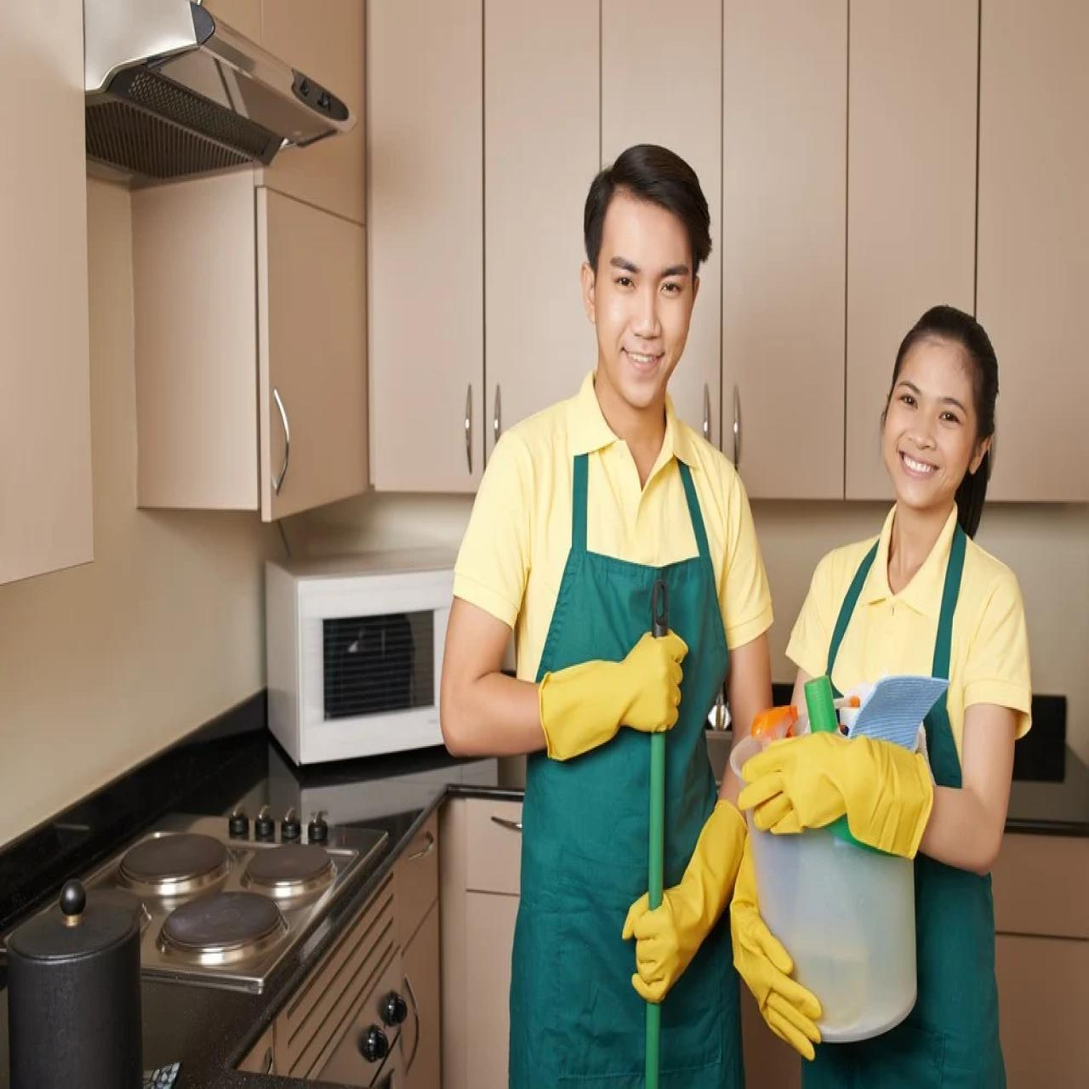NO_Safety_Vest: (512, 421, 739, 951), (822, 519, 998, 951)
Person: (427, 107, 808, 1089), (738, 258, 1048, 1089)
